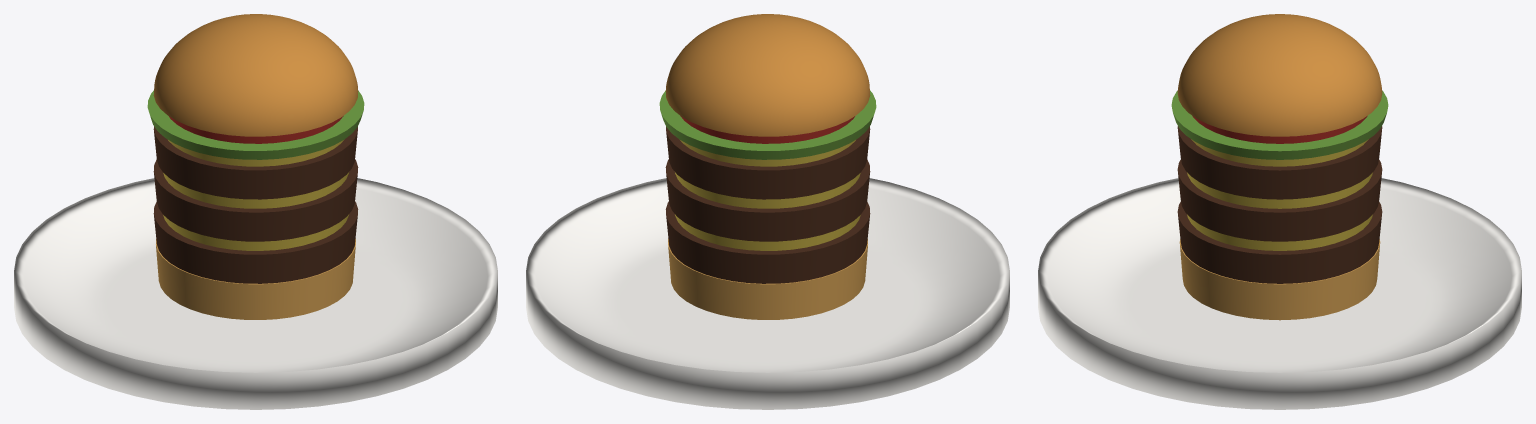
Rendered from burger-trinca-card.glb.
3 views of the same model, side by side, from view 1: azimuth 30°, elevation 25°; view 2: azimuth 150°, elevation 25°; view 3: azimuth 270°, elevation 25° (orthographic).
Size of the model in its own units: 0.26 by 0.1666 by 0.26.
